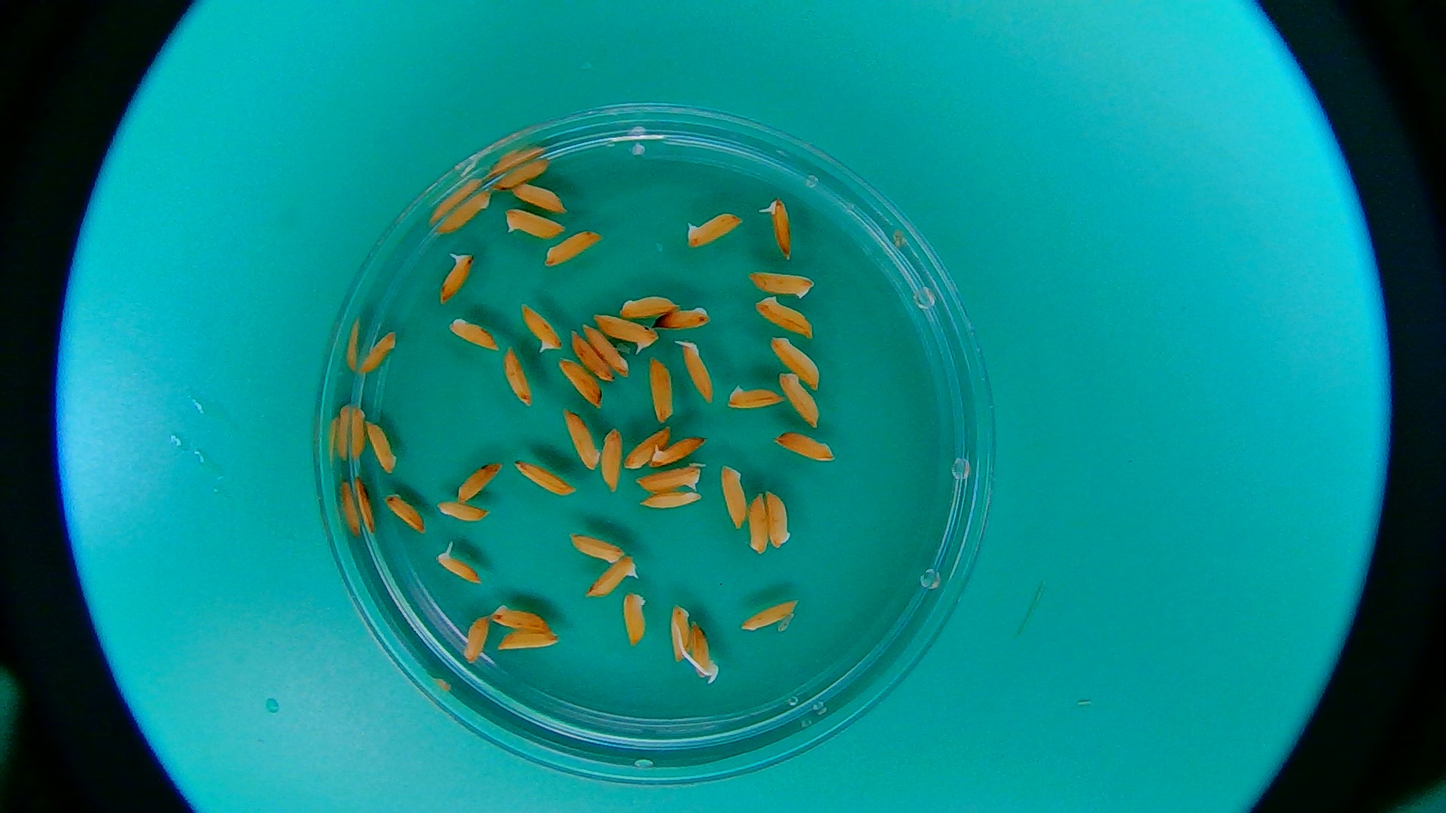no: (434, 190, 495, 239), (770, 332, 818, 393), (756, 295, 815, 343), (513, 455, 574, 499), (777, 370, 821, 431), (570, 328, 618, 383), (681, 211, 745, 251), (551, 358, 602, 408), (634, 463, 701, 500), (715, 462, 751, 530), (770, 429, 834, 467), (563, 408, 601, 471), (539, 228, 602, 266), (491, 154, 554, 192), (499, 345, 535, 408), (586, 324, 630, 375), (454, 458, 502, 504), (735, 600, 798, 635), (380, 489, 424, 537), (746, 270, 814, 301), (490, 600, 548, 636), (356, 327, 398, 376), (645, 358, 675, 426), (502, 208, 565, 240), (566, 531, 624, 565), (649, 302, 715, 331), (364, 418, 399, 472), (447, 315, 499, 350), (349, 475, 379, 534), (746, 491, 772, 559), (494, 628, 560, 653), (621, 290, 681, 317), (620, 589, 648, 646), (728, 384, 786, 411), (435, 496, 487, 526), (636, 490, 701, 514), (669, 605, 694, 665), (766, 490, 791, 550), (345, 404, 367, 461), (462, 614, 488, 662), (601, 428, 620, 492)
yes: (590, 310, 661, 355), (515, 299, 563, 353), (676, 339, 714, 402), (584, 553, 636, 598), (650, 434, 708, 468), (439, 250, 473, 304), (688, 623, 717, 681), (436, 550, 484, 584), (768, 200, 797, 255)
